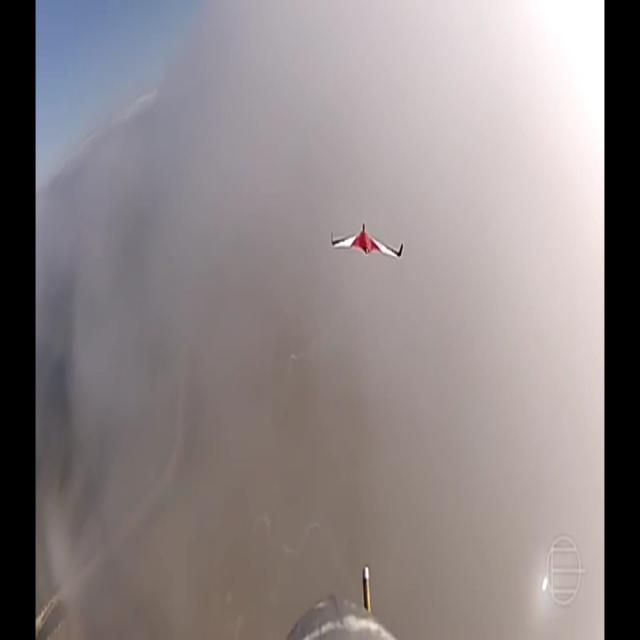iha: (366, 222, 369, 263)
